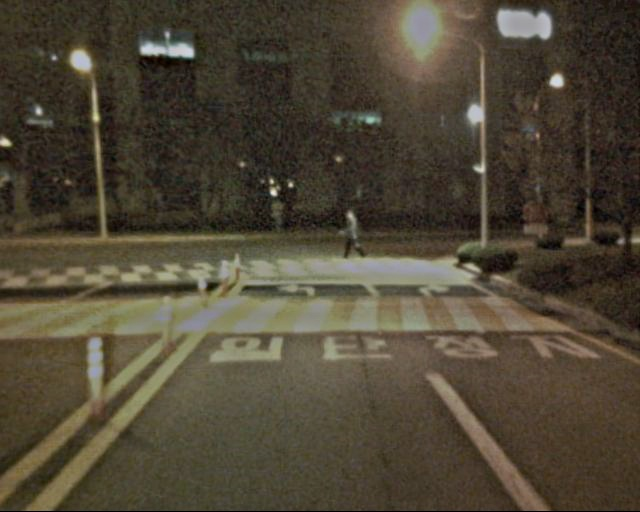person: (340, 209, 366, 272)
